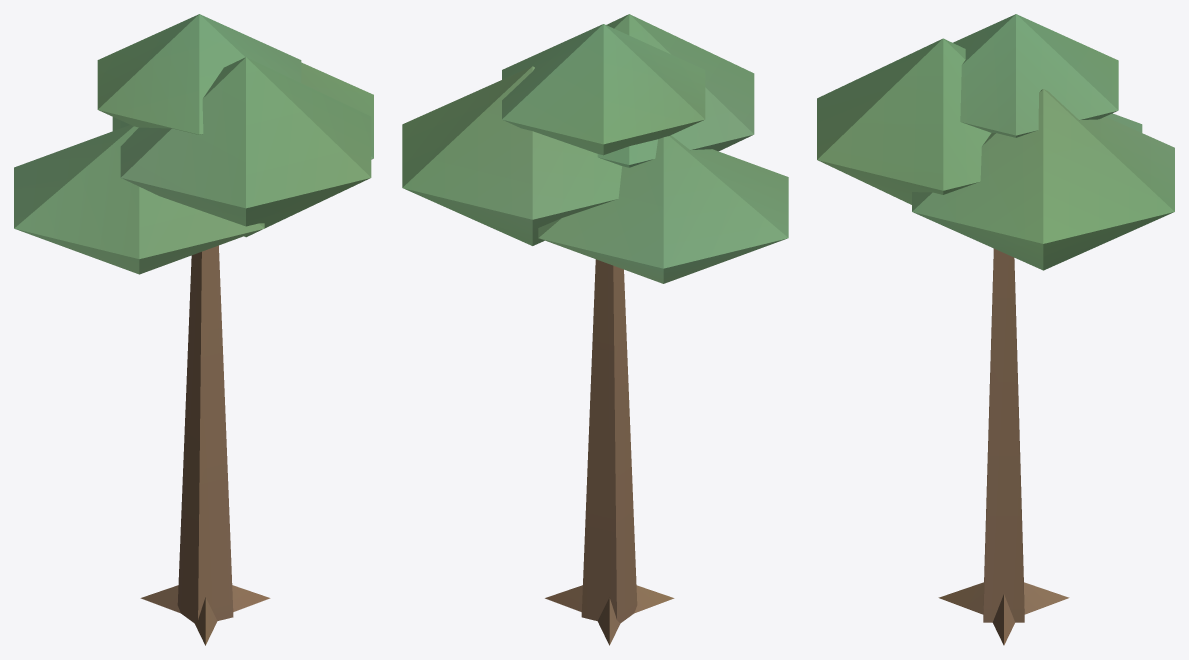
Rendered from canopy.glb.
3 views of the same model, side by side, from view 1: azimuth 30°, elevation 25°; view 2: azimuth 150°, elevation 25°; view 3: azimuth 270°, elevation 25° (orthographic).
Size of the model in its own units: 1.79 by 2.72 by 1.47.
